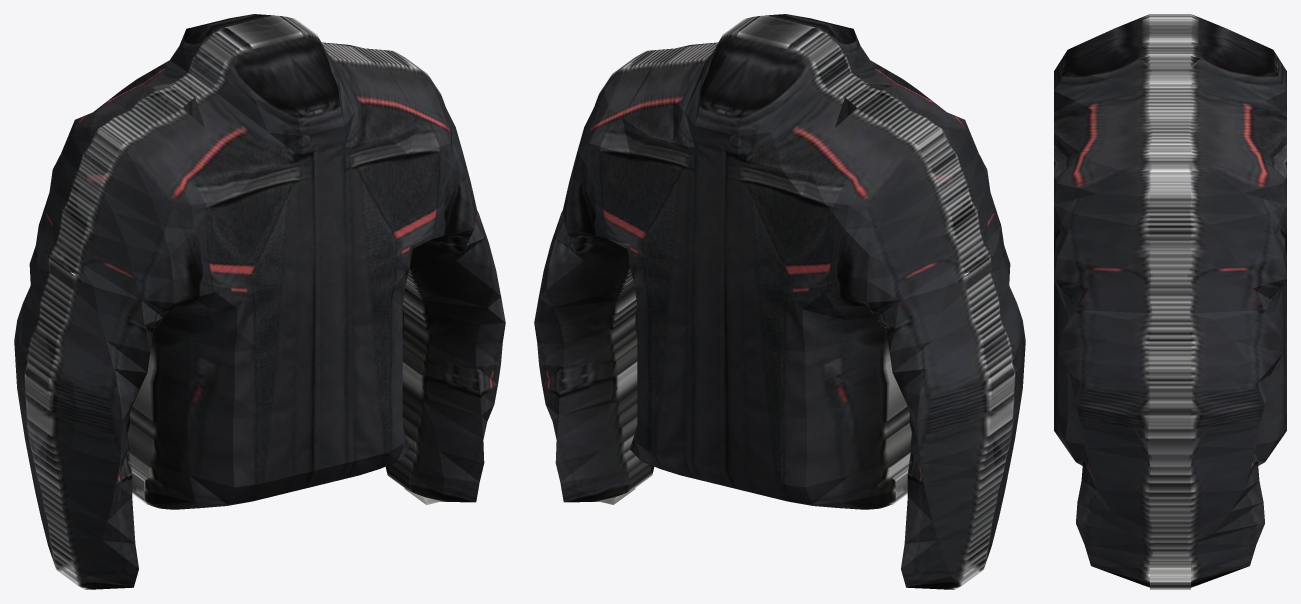
File: cardo-nomad-mesh-jacket-015.glb
3 renders of one model, left to right at view 1: azimuth 30°, elevation 25°; view 2: azimuth 150°, elevation 25°; view 3: azimuth 270°, elevation 25°, orthographic. The views are drawn at different scales.
Visible parts, largest first — view 1: world; view 2: world; view 3: world.
Boxes of the visible parts, bbox=[...] form: world: bbox=[14, 14, 505, 589]; world: bbox=[534, 14, 1025, 589]; world: bbox=[1054, 14, 1286, 589].
Size of the model in its own units: 0.9228 by 1 by 0.44.
1 material, 1 textured.
